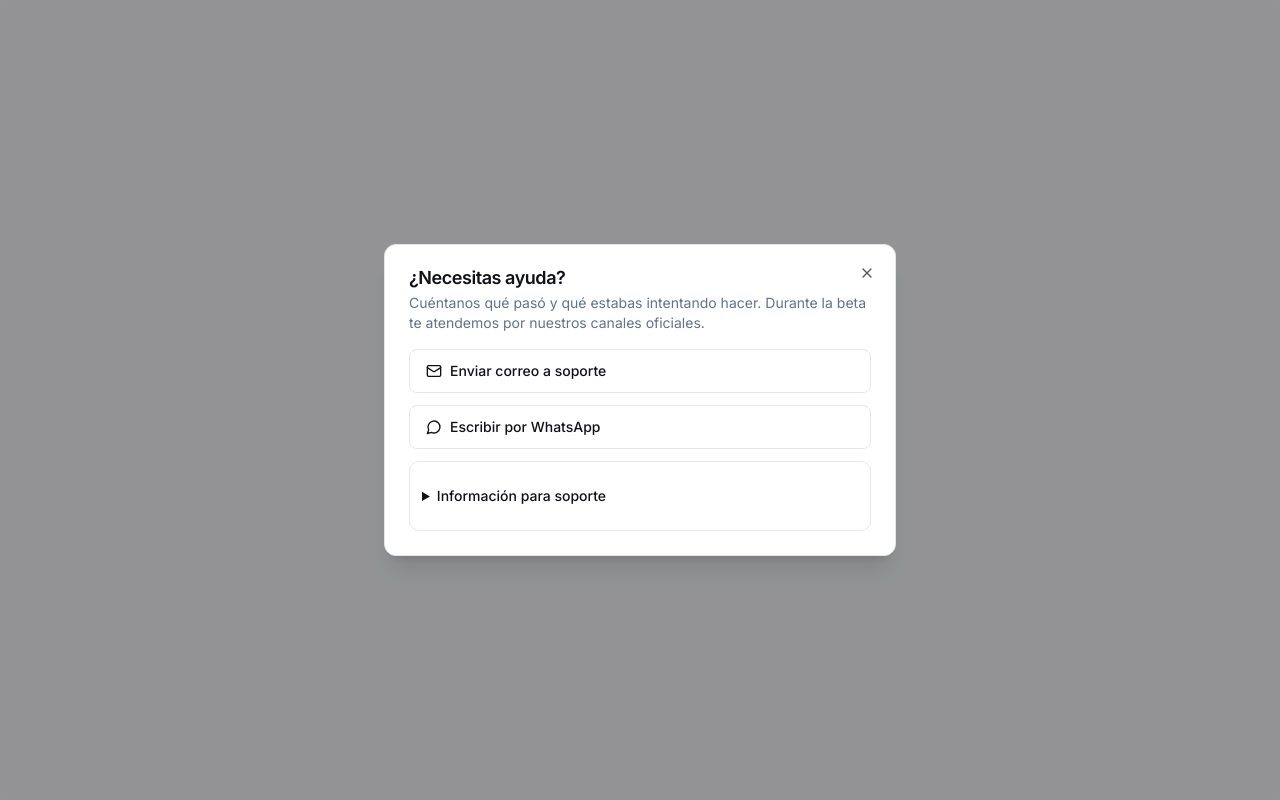
Test: SupportDialog › offers the official channels and only an opaque technical reference
This screenshot has width=1280, height=800.
expect the text "91a4d81f-2c2b-4f45-89bb-aabc12345678" is not shown: met
Click the heading "Información para soporte" at (521, 496), box [437,487,606,504]
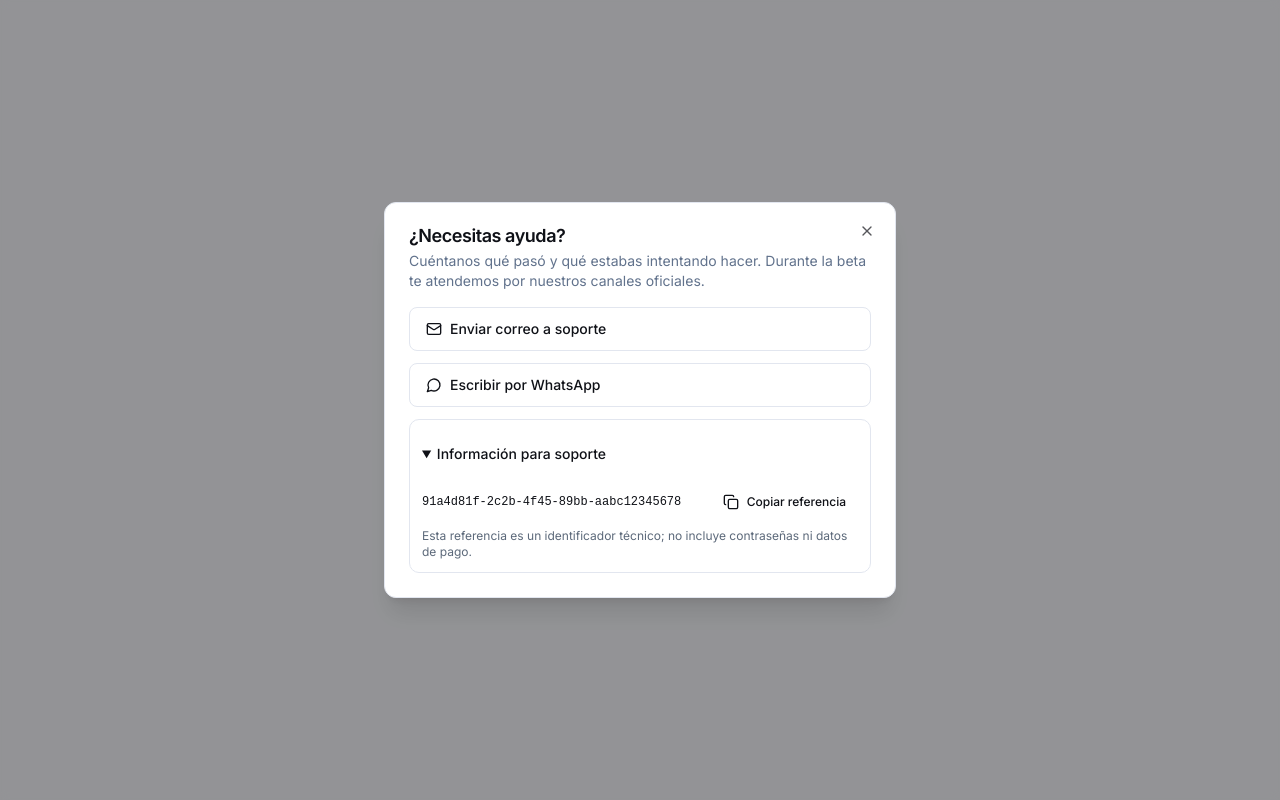
expect the text "91a4d81f-2c2b-4f45-89bb-aabc12345678" is shown: met, box [422,494,681,510]
